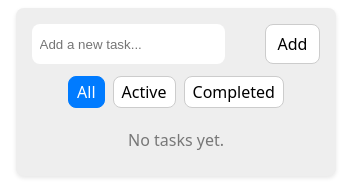
Test case: TodoApp - handleAddTodo › should add a new todo when input is valid
// Valid Input TestCase: Sample Task
In the field with placeholder "Add a new task...": coordinates (128, 44) [32,24,224,64], type "Sample Task"
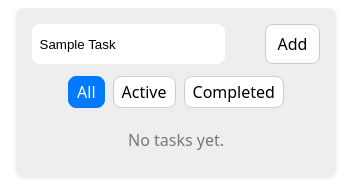
// click add button
Click the button "Add": coordinates (292, 44) [264,24,320,64]
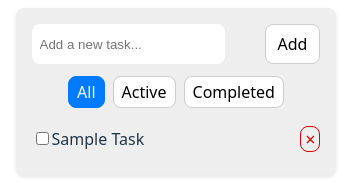
Now the text "Sample Task" is shown, box [52,128,144,150]
Now the field with placeholder "Add a new task..." is empty, box [32,24,224,64]
